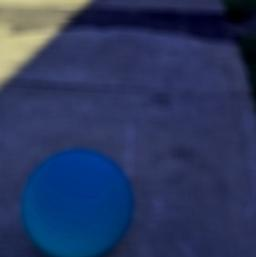algae: (21, 144, 135, 257)
